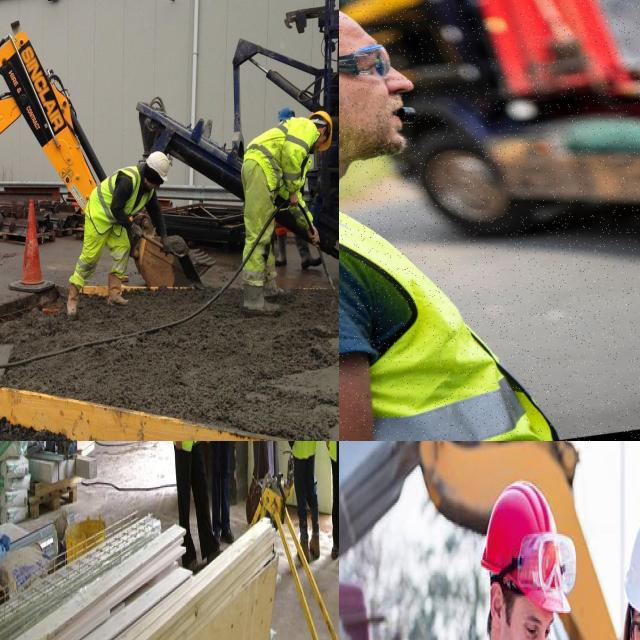No_Ear-Protection: (488, 579, 506, 637)
No_Glasses: (520, 605, 557, 640)
face_nomask: (339, 71, 415, 159), (494, 575, 551, 640)
glasses: (515, 530, 582, 596), (339, 44, 391, 77)
hand_noglove: (309, 228, 323, 250), (288, 190, 298, 208), (173, 441, 183, 454)
head_helmet: (473, 469, 578, 616), (621, 506, 640, 635), (309, 109, 335, 153), (144, 150, 170, 183)
person: (406, 441, 580, 640), (242, 109, 334, 316), (66, 149, 172, 319), (169, 441, 218, 565), (285, 441, 323, 563), (205, 441, 241, 544), (245, 441, 278, 492), (326, 441, 339, 564)
shoes: (238, 284, 280, 316), (105, 270, 129, 309), (63, 280, 82, 320), (219, 519, 236, 544), (309, 528, 321, 562), (328, 536, 339, 563)
vest: (246, 115, 316, 186), (88, 167, 154, 229)
